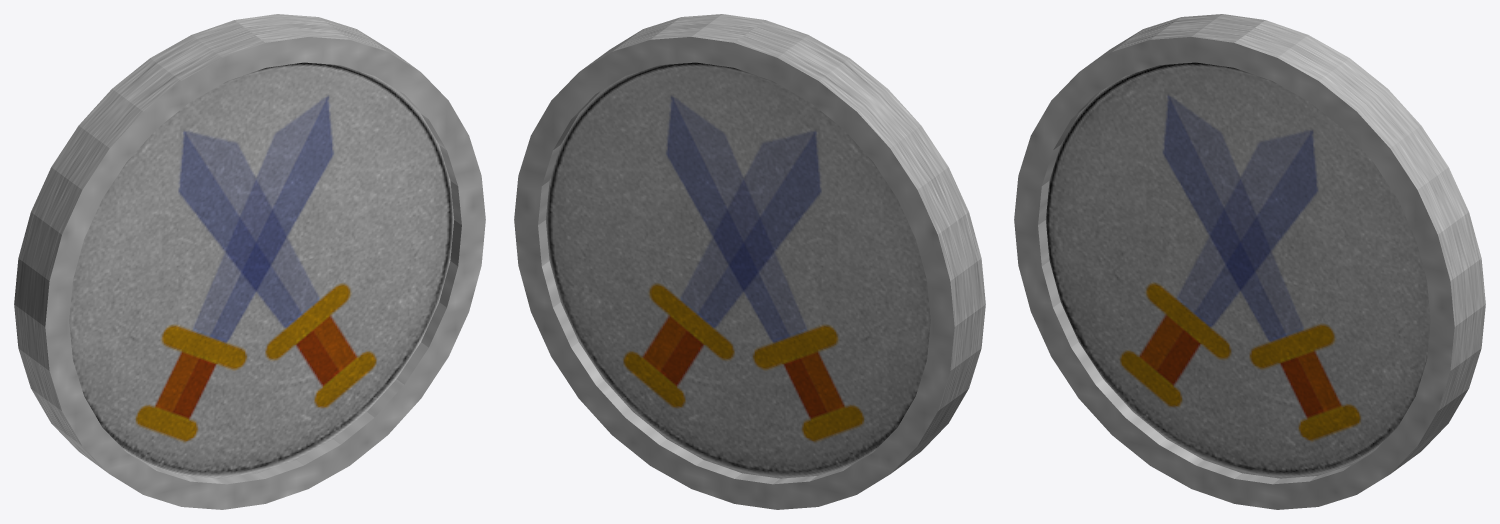
File: TokenDamage.fbx
The picture shows the model from 3 angles, left to right: view 1: azimuth 30°, elevation 25°; view 2: azimuth 150°, elevation 25°; view 3: azimuth 330°, elevation 25°; orthographic projection.
Parts seen in each view (by area): view 1: Cylinder; view 2: Cylinder; view 3: Cylinder.
Boxes of the visible parts, x1=… form: Cylinder: x1=14, y1=14, x2=485, y2=509; Cylinder: x1=514, y1=14, x2=985, y2=509; Cylinder: x1=1014, y1=14, x2=1485, y2=509.
Size of the model in its own units: 200 by 200 by 24.54.
Materials: 1 (1 with a texture image).
